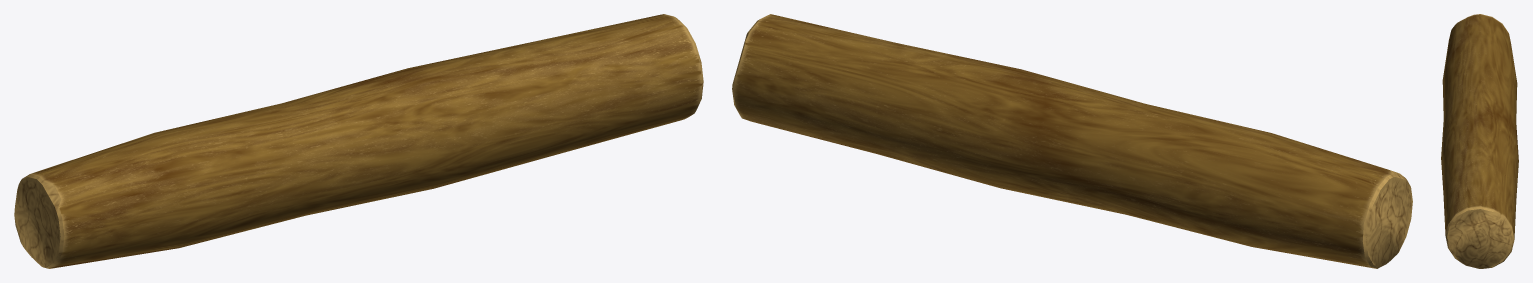
File: Log3.fbx
The picture shows the model from 3 angles, left to right: view 1: azimuth 30°, elevation 25°; view 2: azimuth 150°, elevation 25°; view 3: azimuth 270°, elevation 25°; orthographic projection. The views are drawn at different scales.
Parts seen in each view (by area): view 1: Log3_LOD0; view 2: Log3_LOD0; view 3: Log3_LOD0.
Boxes of the visible parts, x1=… form: Log3_LOD0: x1=14, y1=14, x2=703, y2=268; Log3_LOD0: x1=732, y1=14, x2=1412, y2=268; Log3_LOD0: x1=1441, y1=14, x2=1518, y2=268.
Size of the model in its own units: 208 by 34.76 by 34.76.
1 material, 1 textured.
